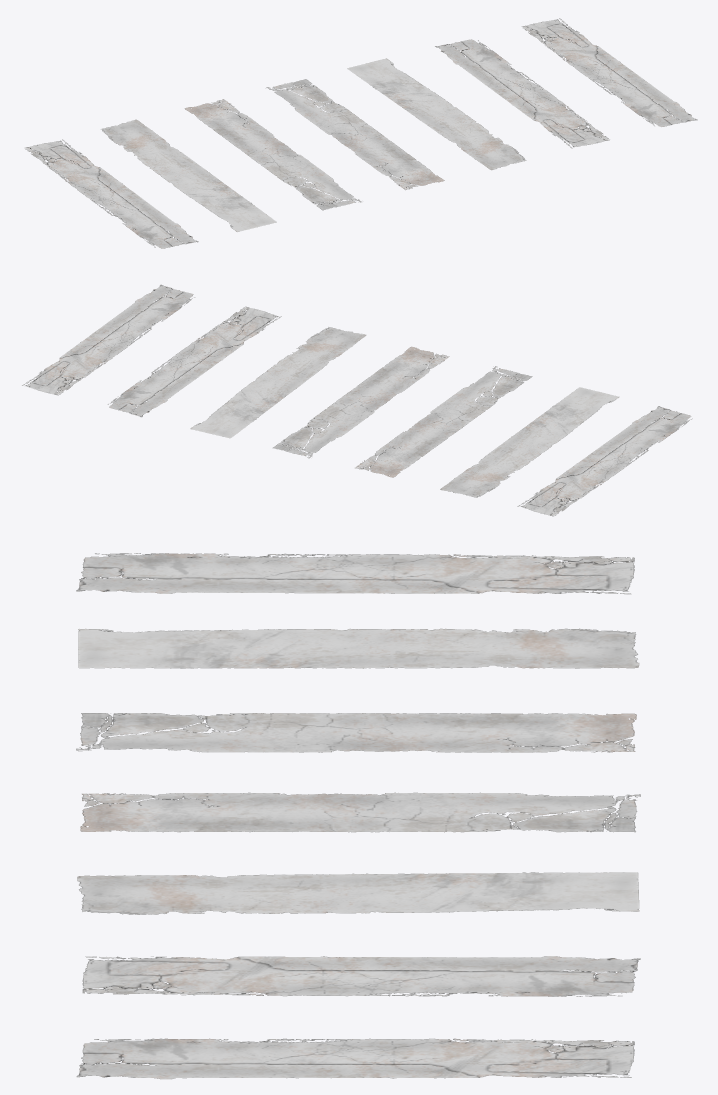
Rendered from HH_Pedestrian_Crossing_01.fbx.
3 renders of one model, top to bottom at view 1: azimuth 30°, elevation 25°; view 2: azimuth 150°, elevation 25°; view 3: azimuth 270°, elevation 25°, orthographic. The views are drawn at different scales.
Visible parts, largest first — view 1: HH_Pedestrian_Crossing_01; view 2: HH_Pedestrian_Crossing_01; view 3: HH_Pedestrian_Crossing_01.
Part boxes in pixels (x1,y1,x2,y2): HH_Pedestrian_Crossing_01: (24,18,697,248); HH_Pedestrian_Crossing_01: (22,284,692,516); HH_Pedestrian_Crossing_01: (76,553,640,1079).
Size of the model in its own units: 565 by 0 by 263.
